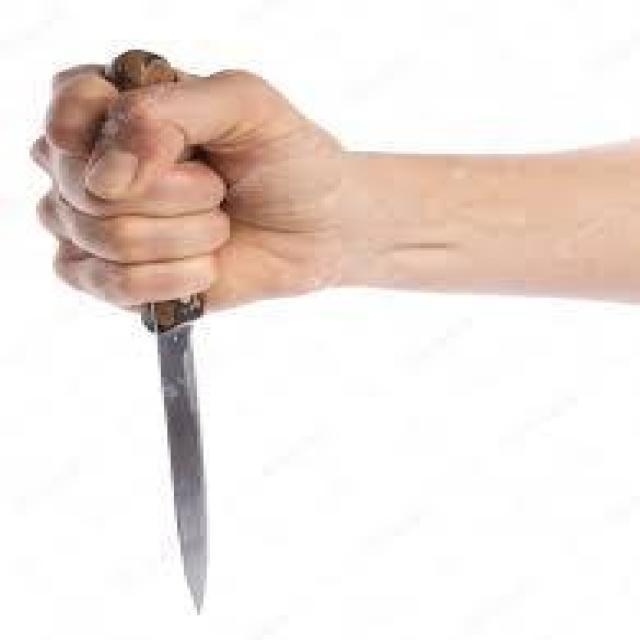faca: (27, 24, 354, 610)
